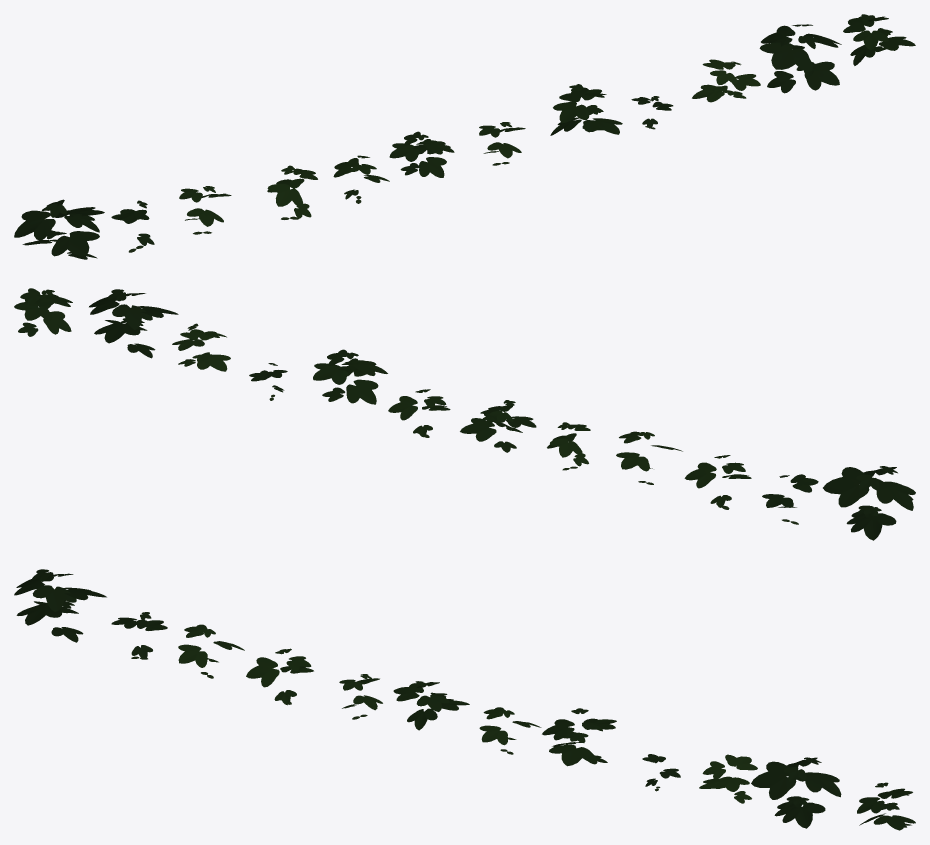
File: ROW_09_SEG5_foliage.dae
3 renders of one model, top to bottom at view 1: azimuth 30°, elevation 25°; view 2: azimuth 150°, elevation 25°; view 3: azimuth 330°, elevation 25°, orthographic.
Parts seen in each view (by area): view 1: ROW_09_SEG5_foliage; view 2: ROW_09_SEG5_foliage; view 3: ROW_09_SEG5_foliage.
Boxes of the visible parts, <box> form: ROW_09_SEG5_foliage: <box>14,14,915,259</box>; ROW_09_SEG5_foliage: <box>14,288,915,540</box>; ROW_09_SEG5_foliage: <box>14,569,915,830</box>.
Bounding box in the file's own units: 3.66 × 0.3609 × 0.2877.
